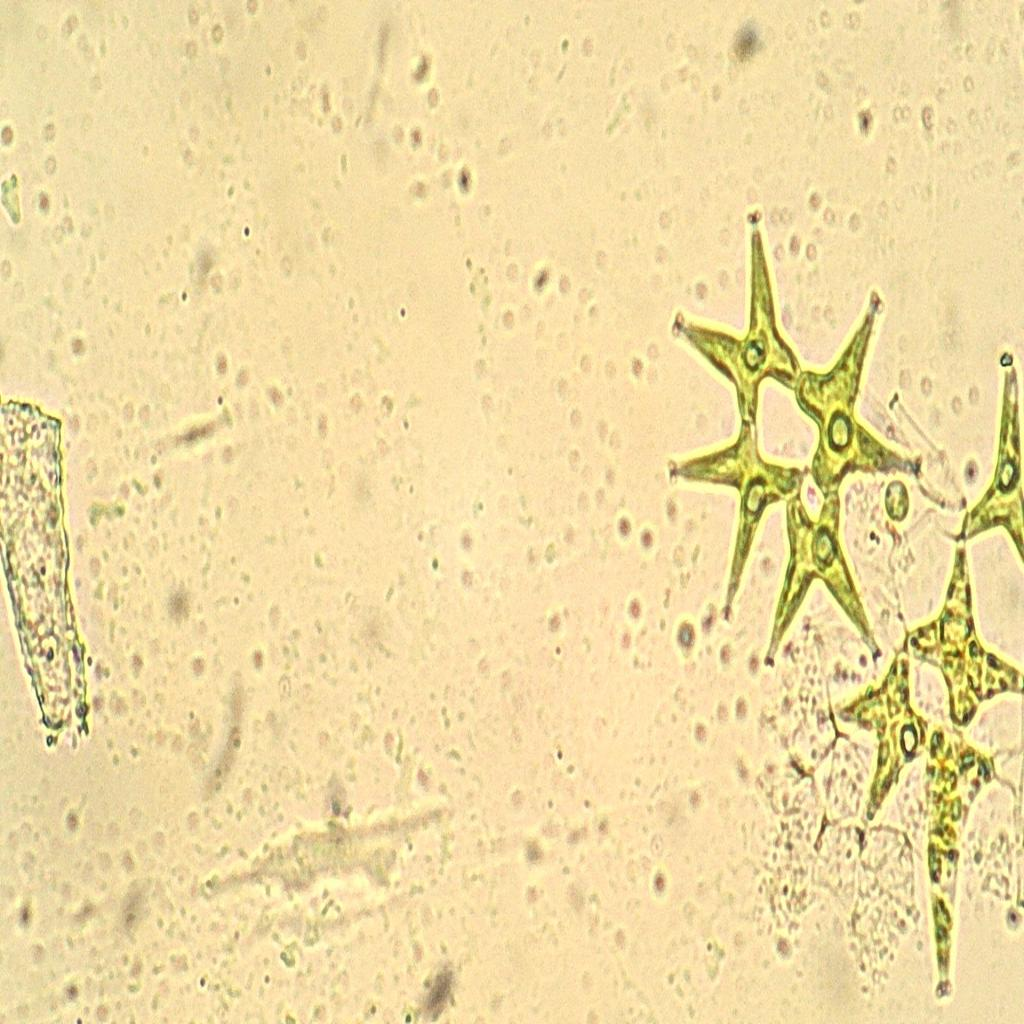Pediastrum_CF: (652, 206, 924, 690)
